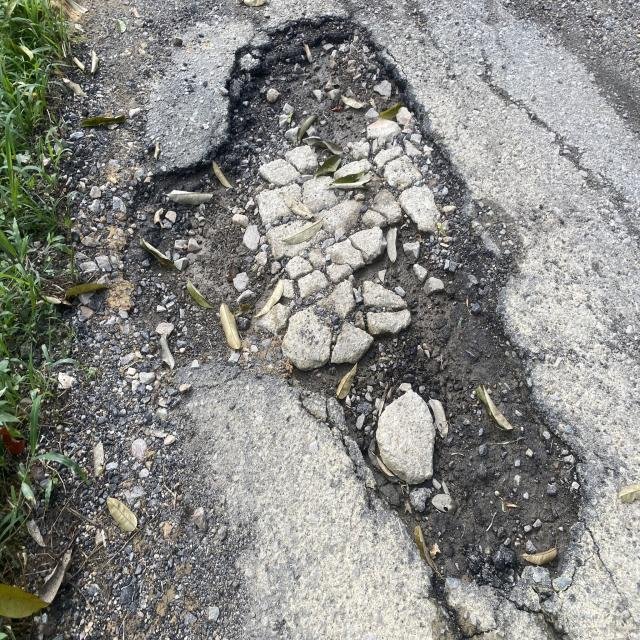pothole: (115, 3, 615, 589)
